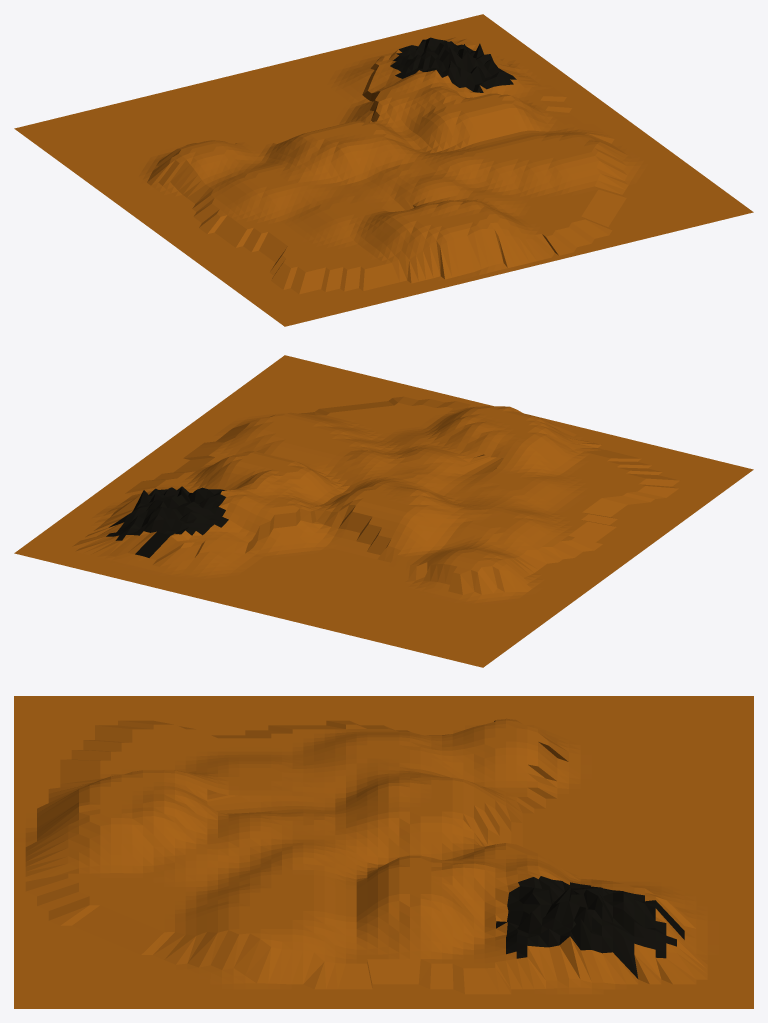
File: DesertMaps.obj
The picture shows the model from 3 angles, top to bottom: view 1: azimuth 30°, elevation 25°; view 2: azimuth 150°, elevation 25°; view 3: azimuth 270°, elevation 25°; orthographic projection. The views are drawn at different scales.
Parts seen in each view (by area): view 1: Plane; view 2: Plane; view 3: Plane.
Boxes of the visible parts, x1,y1,x2,y2 form: Plane: (14, 14, 753, 326); Plane: (14, 355, 753, 667); Plane: (14, 696, 753, 1008).
Size of the model in its own units: 59.49 by 4.99 by 59.49.
